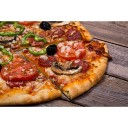pepperonipizza: (1, 21, 109, 100)
